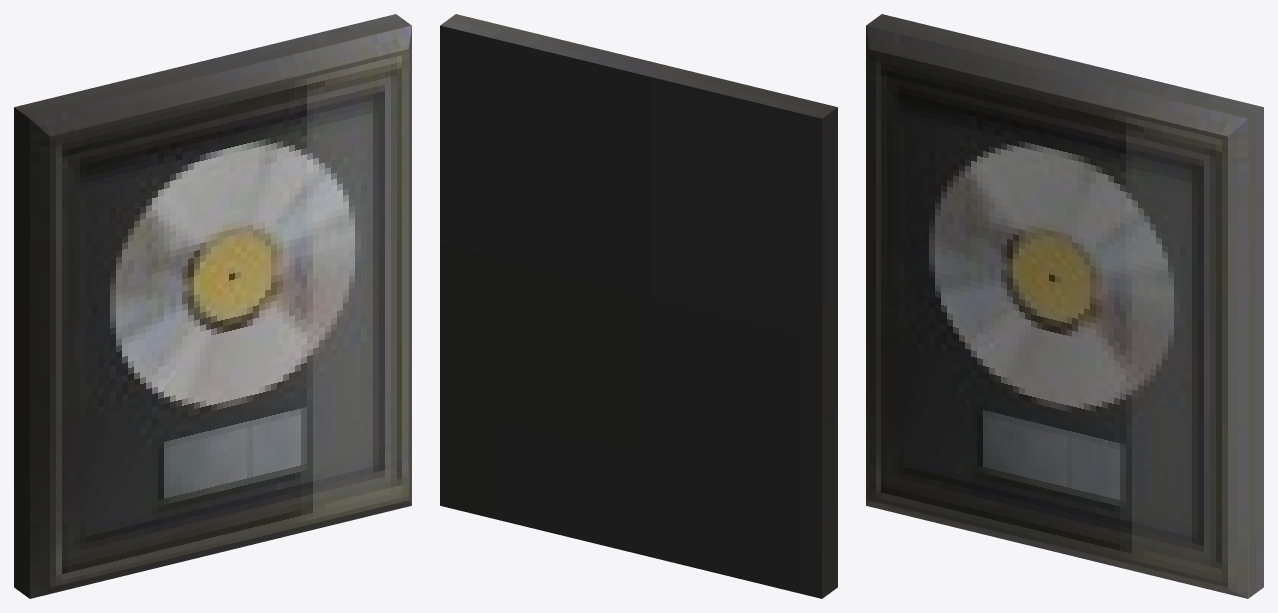
File: vinyl.glb
3 views of the same model, side by side, from view 1: azimuth 30°, elevation 25°; view 2: azimuth 150°, elevation 25°; view 3: azimuth 330°, elevation 25° (orthographic).
Visible parts, largest first — view 1: Cube; view 2: Cube; view 3: Cube.
Boxes of the visible parts, left/top/right/bottom form: Cube: left=14, top=14, right=411, bottom=598; Cube: left=440, top=14, right=837, bottom=598; Cube: left=866, top=14, right=1263, bottom=598.
Bounding box in the file's own units: 0.7738 × 0.9295 × 0.0852.
Materials: 1 (1 with a texture image).
